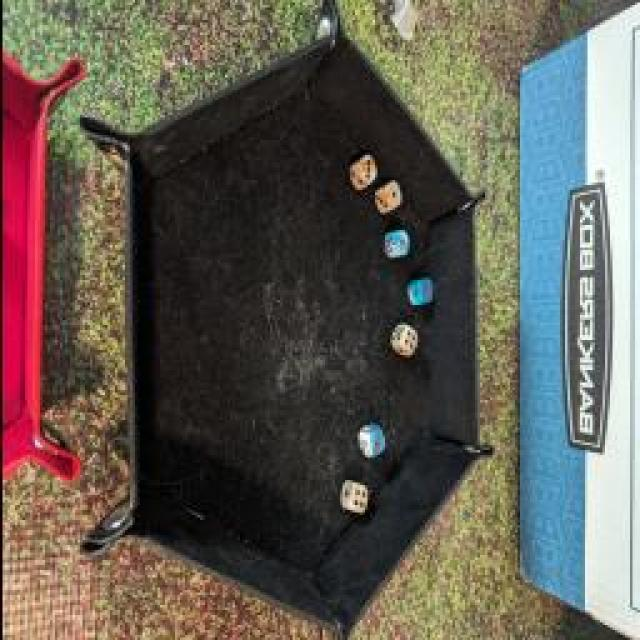dice_1: (371, 178, 401, 222), (381, 230, 409, 260)
dice_3: (344, 151, 378, 191), (355, 422, 385, 458)
dice_4: (339, 479, 369, 519), (390, 322, 418, 362)
dice_5: (402, 275, 436, 305)
